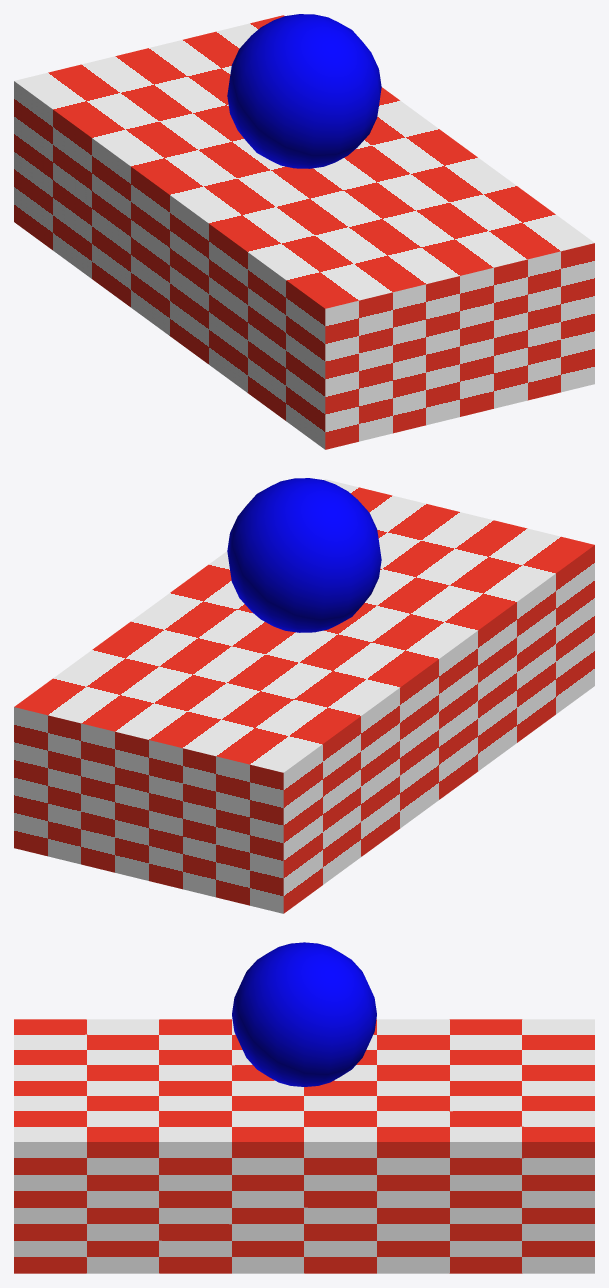
3 renders of one model, top to bottom at view 1: azimuth 30°, elevation 25°; view 2: azimuth 150°, elevation 25°; view 3: azimuth 270°, elevation 25°, orthographic. The views are drawn at different scales.
Visible parts, largest first — view 1: body, dome; view 2: body, dome; view 3: body, dome.
Boxes of the visible parts, x1,y1,x2,y2 form: body: [14, 15, 594, 449]; dome: [227, 14, 381, 168]; body: [14, 479, 594, 913]; dome: [227, 478, 381, 632]; body: [14, 1019, 594, 1273]; dome: [232, 942, 376, 1086].
Bounding box in the file's own units: 2 × 2 × 4.
2 materials, 1 textured.
